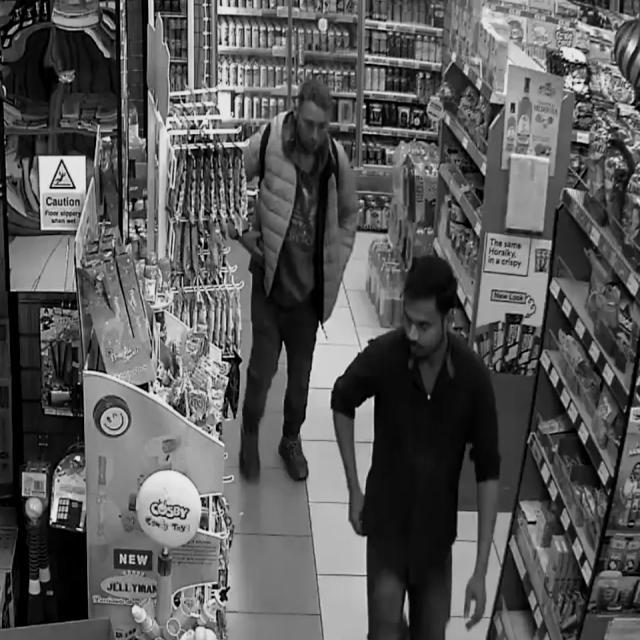shoplifting: (323, 239, 542, 637)
